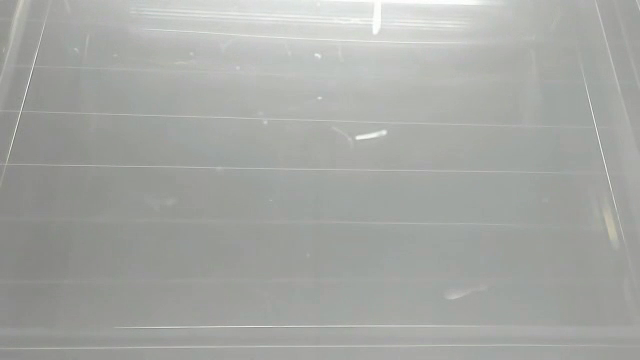alpha: (442, 282, 490, 303), (351, 127, 392, 142), (369, 1, 384, 38)
